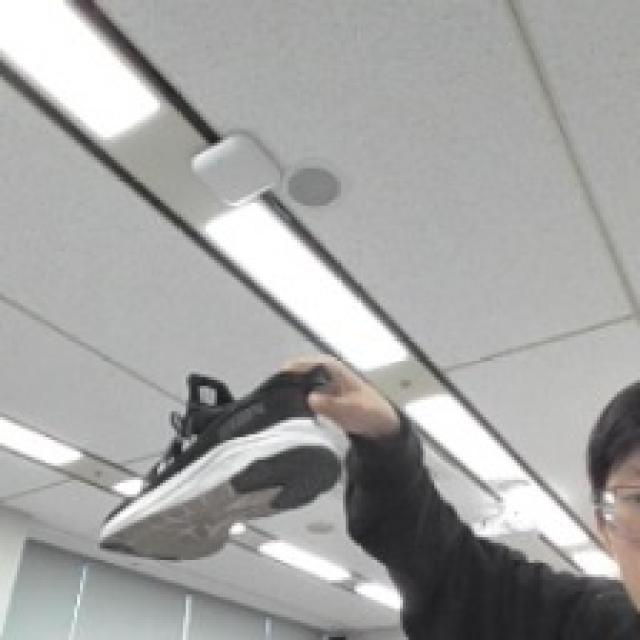shoes: (94, 362, 347, 564)
